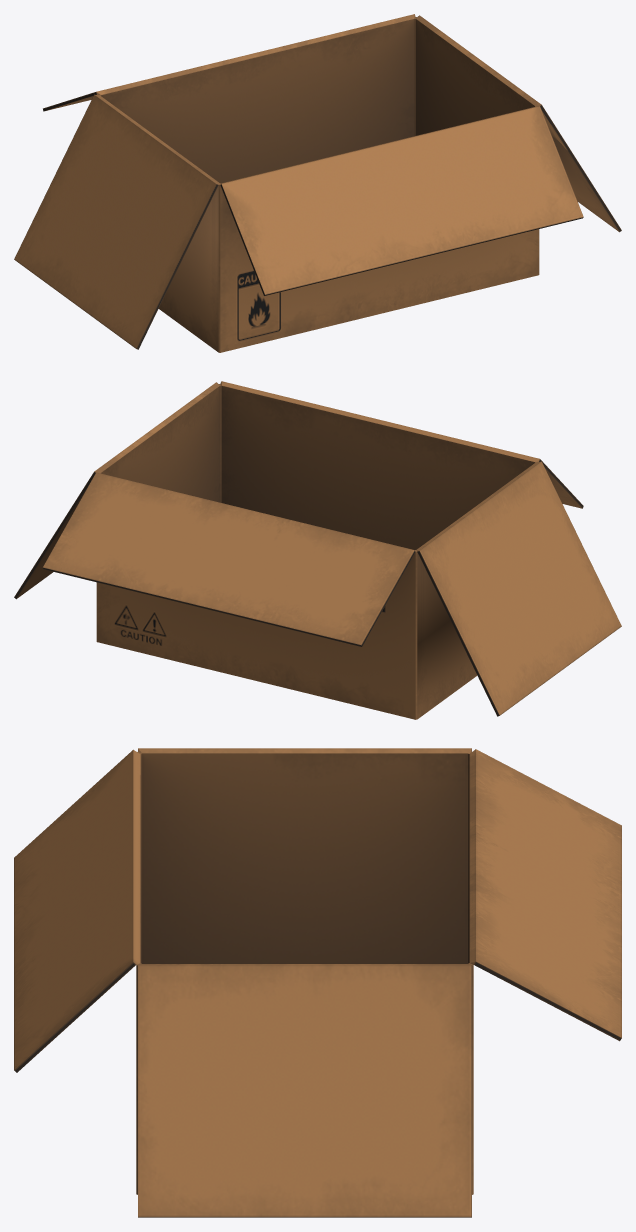
The model's file is 3d_cardboard_lowpoly.glb.
3 views of the same model, one above another, from view 1: azimuth 30°, elevation 25°; view 2: azimuth 150°, elevation 25°; view 3: azimuth 270°, elevation 25° (orthographic). The views are drawn at different scales.
Parts seen in each view (by area): view 1: Cardbox; view 2: Cardbox; view 3: Cardbox.
Boxes of the visible parts, left/top/right/bottom form: Cardbox: left=14, top=14, right=621, bottom=352; Cardbox: left=14, top=381, right=621, bottom=719; Cardbox: left=14, top=748, right=621, bottom=1217.
Size of the model in its own units: 0.6687 by 0.224 by 0.5304.
1 material, 1 textured.
